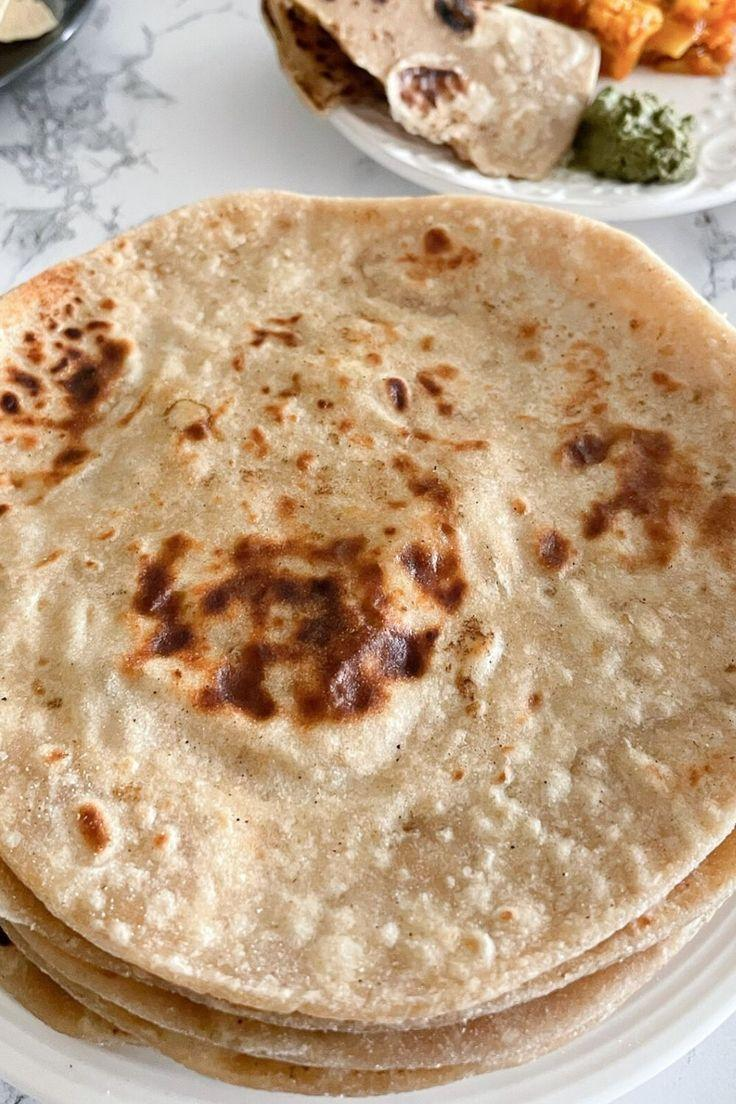roti phulka: (0, 208, 736, 1086)
